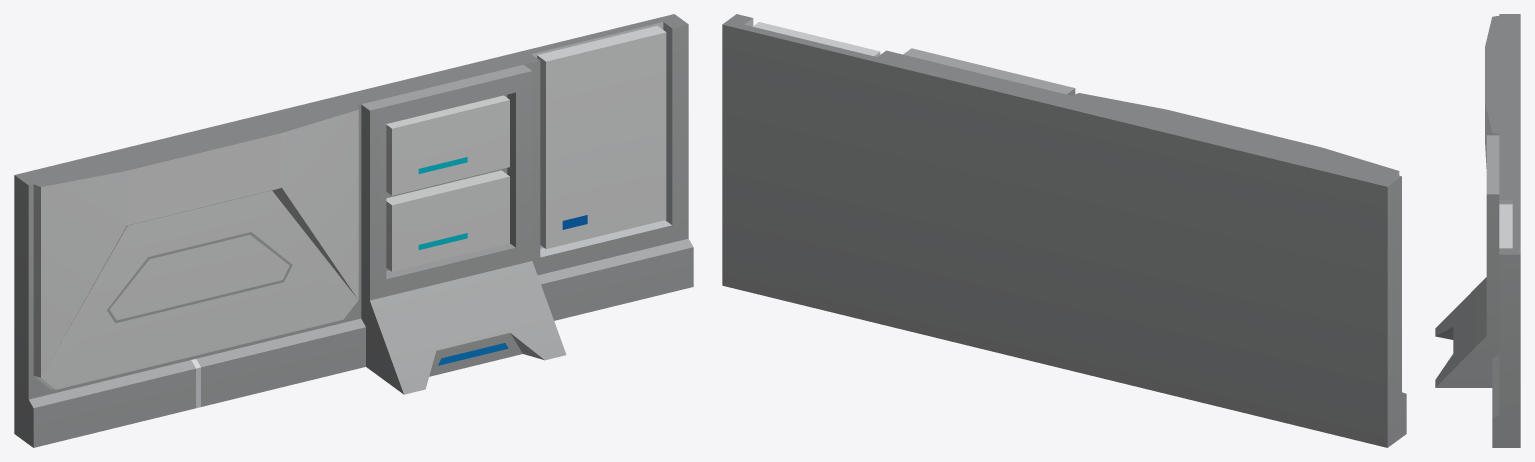
Rendered from Wall_type_A_034.fbx.
3 views of the same model, side by side, from view 1: azimuth 30°, elevation 25°; view 2: azimuth 150°, elevation 25°; view 3: azimuth 270°, elevation 25° (orthographic). The views are drawn at different scales.
Parts seen in each view (by area): view 1: Wall_type_A_034; view 2: Wall_type_A_034; view 3: Wall_type_A_034.
Boxes of the visible parts, <box> form: Wall_type_A_034: <box>14,14,693,447</box>; Wall_type_A_034: <box>722,14,1406,447</box>; Wall_type_A_034: <box>1435,14,1520,447</box>.
Size of the model in its own units: 400 by 60 by 150.
